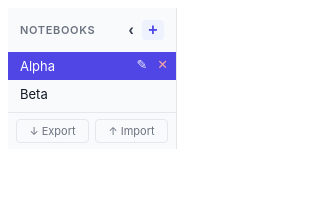
Test case: NotebookList rename › shows rename input when rename button is clicked
Step 1. Click the button named "Rename \"Alpha\"" → (142, 66), box [132,57,151,75]
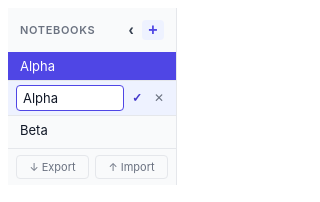
Expected: the field named "New notebook name" is shown, [16,85,124,111]
